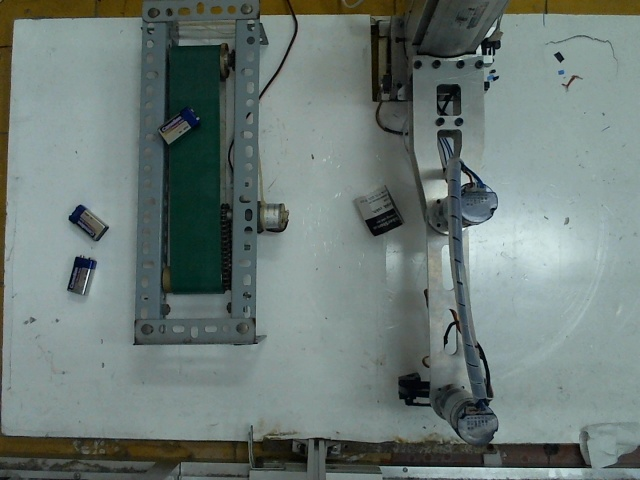battery: (154, 103, 200, 146), (62, 254, 105, 297), (71, 198, 113, 236)
